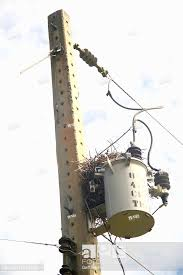bird-nest: (79, 153, 105, 203)
